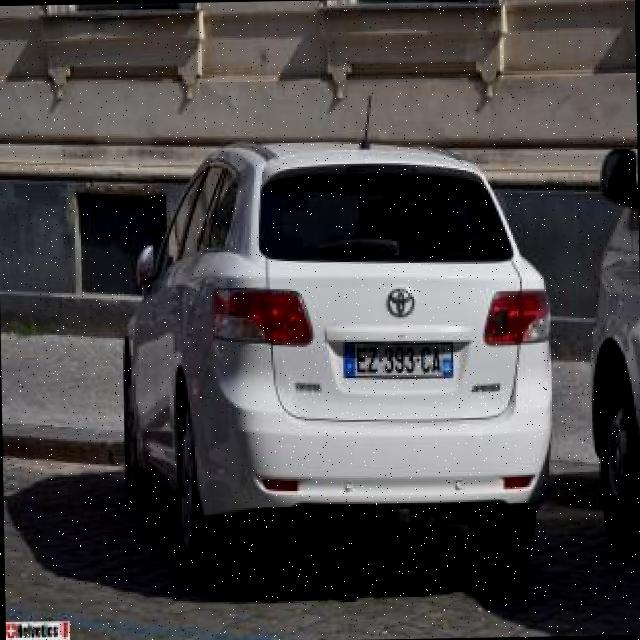Autre: (338, 336, 457, 380)
